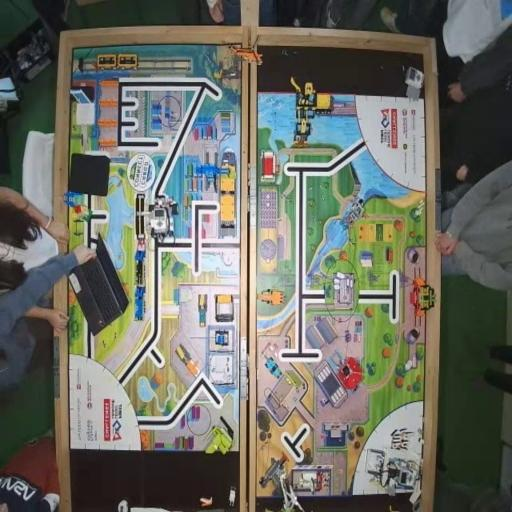lego_robot: (364, 448, 423, 496), (145, 194, 179, 245)
